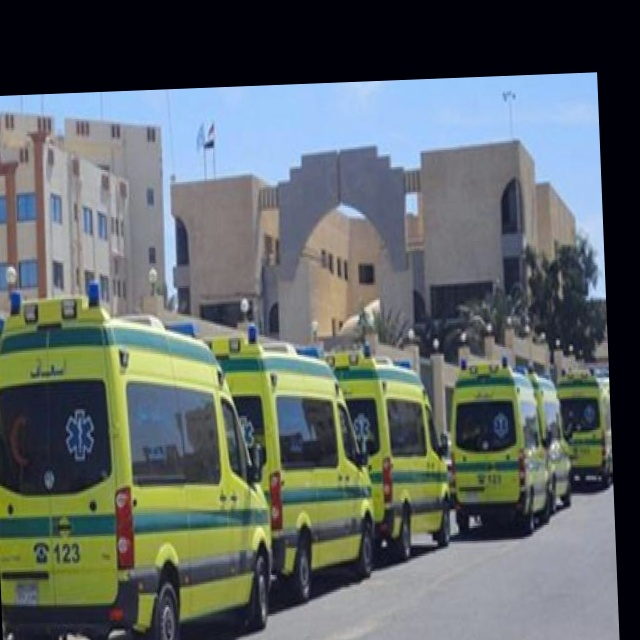Ambulance: (0, 274, 277, 640), (194, 316, 377, 606), (319, 337, 453, 564), (443, 352, 555, 535), (555, 365, 612, 490), (524, 366, 573, 511), (587, 362, 612, 476)
